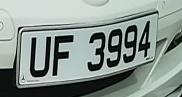3: (86, 26, 106, 74)
4: (138, 14, 154, 65)
9: (105, 24, 123, 72), (122, 21, 139, 68)
F: (51, 32, 77, 81)
U: (27, 31, 53, 83)
